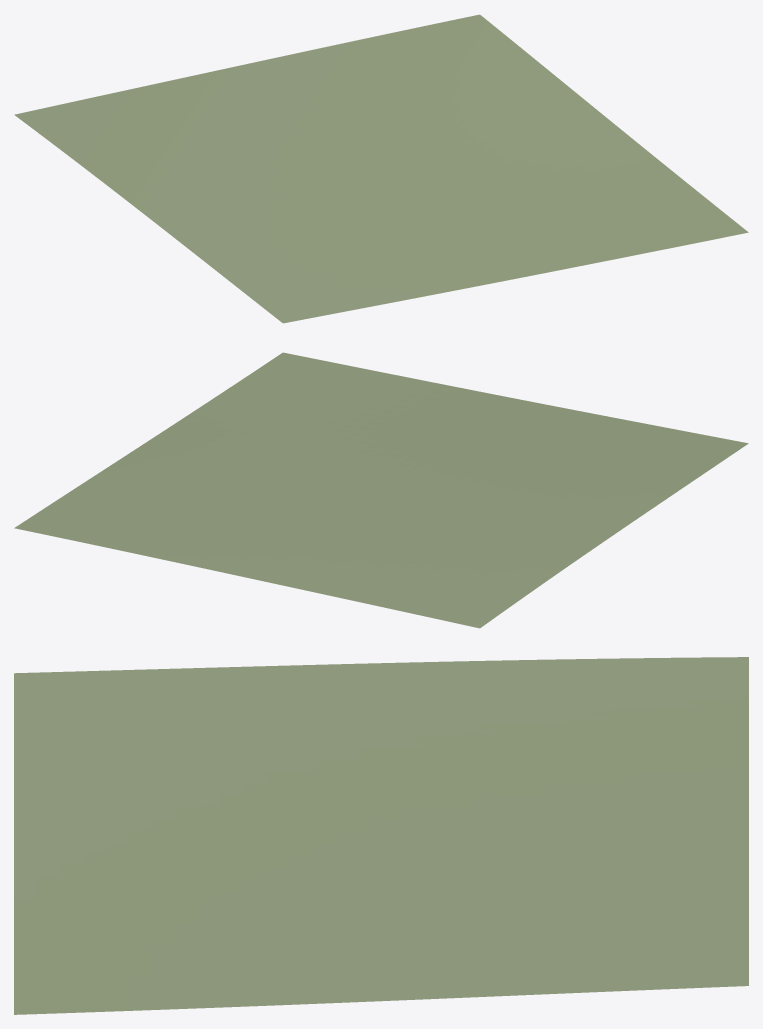
Rendered from desert-2-19.glb.
3 views of the same model, one above another, from view 1: azimuth 30°, elevation 25°; view 2: azimuth 150°, elevation 25°; view 3: azimuth 270°, elevation 25° (orthographic). The views are drawn at different scales.
Visible parts, largest first — view 1: desert-2-19; view 2: desert-2-19; view 3: desert-2-19.
Part boxes in pixels (box(x1,y1,x2,y2)): desert-2-19: box(14, 14, 748, 323); desert-2-19: box(14, 352, 748, 628); desert-2-19: box(14, 657, 748, 1014).
Bounding box in the file's own units: 512 × 36.31 × 512.
